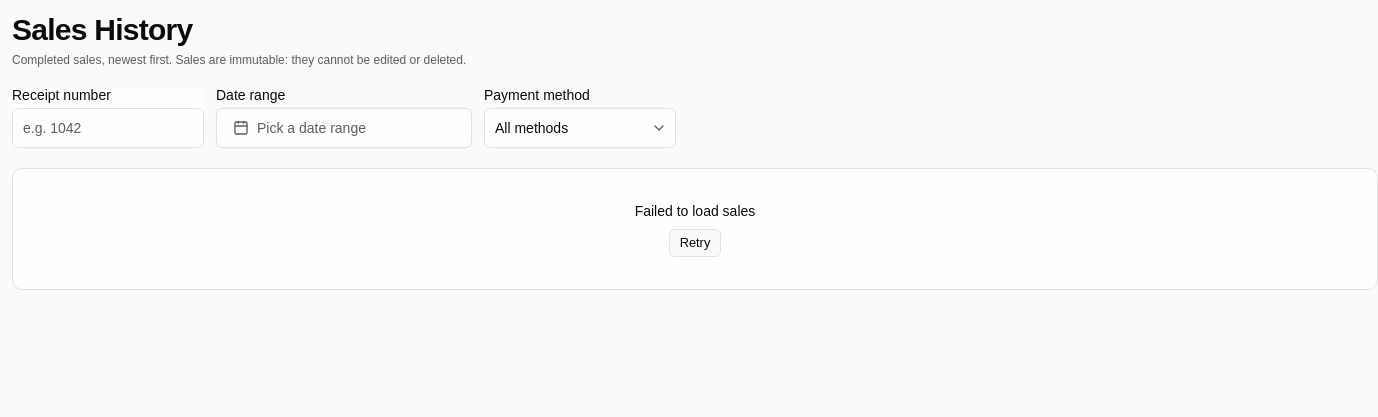
Test case: SalesHistoryPage › shows an error state and retries
The width and height of the screenshot is (1378, 417).
Expected: the text "Failed to load sales" is shown, [635,201,755,221]
What coordinates should you click on to do the following:
click the button "Retry"
I would click on:
 (695, 243)
Its box is [669,229,721,257].
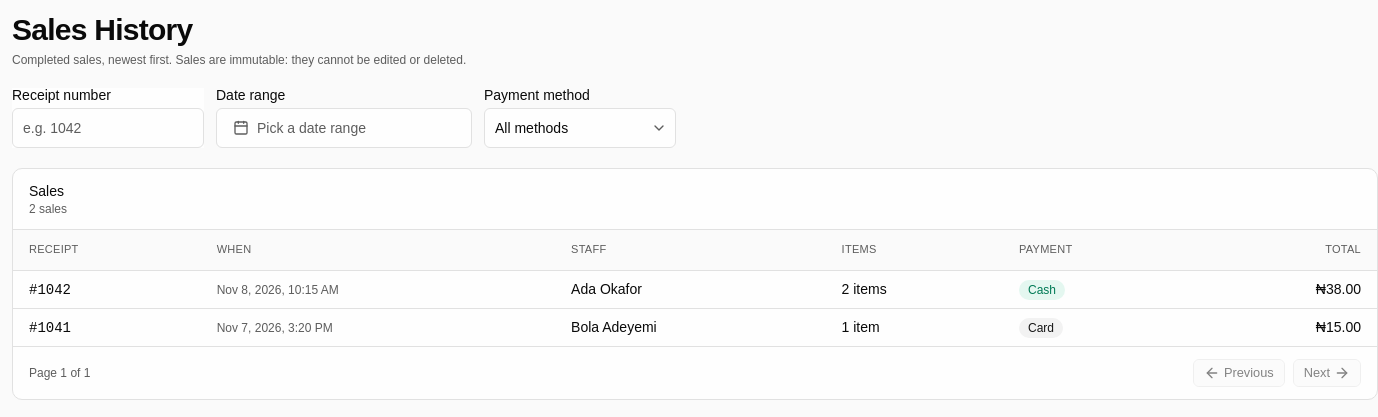
Expected: the text "#1042" is shown, [29,282,71,298]
